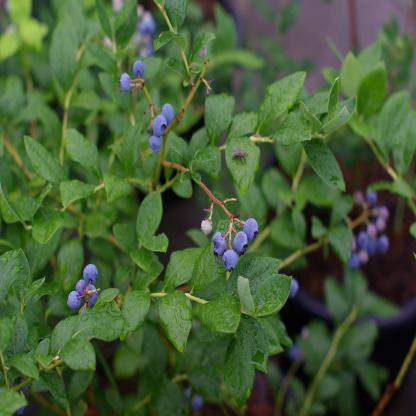Blueberry leaf: (43, 290, 125, 388), (7, 248, 55, 373), (149, 11, 225, 88), (289, 122, 353, 203), (158, 231, 231, 291), (195, 286, 259, 347), (220, 325, 262, 416), (157, 286, 197, 369), (324, 77, 368, 147), (50, 22, 85, 110), (249, 270, 302, 326), (262, 70, 312, 129), (134, 182, 171, 257), (62, 125, 103, 189), (24, 197, 63, 257), (54, 168, 104, 214), (25, 131, 64, 186), (206, 84, 236, 150), (116, 6, 139, 64), (103, 170, 129, 204)
